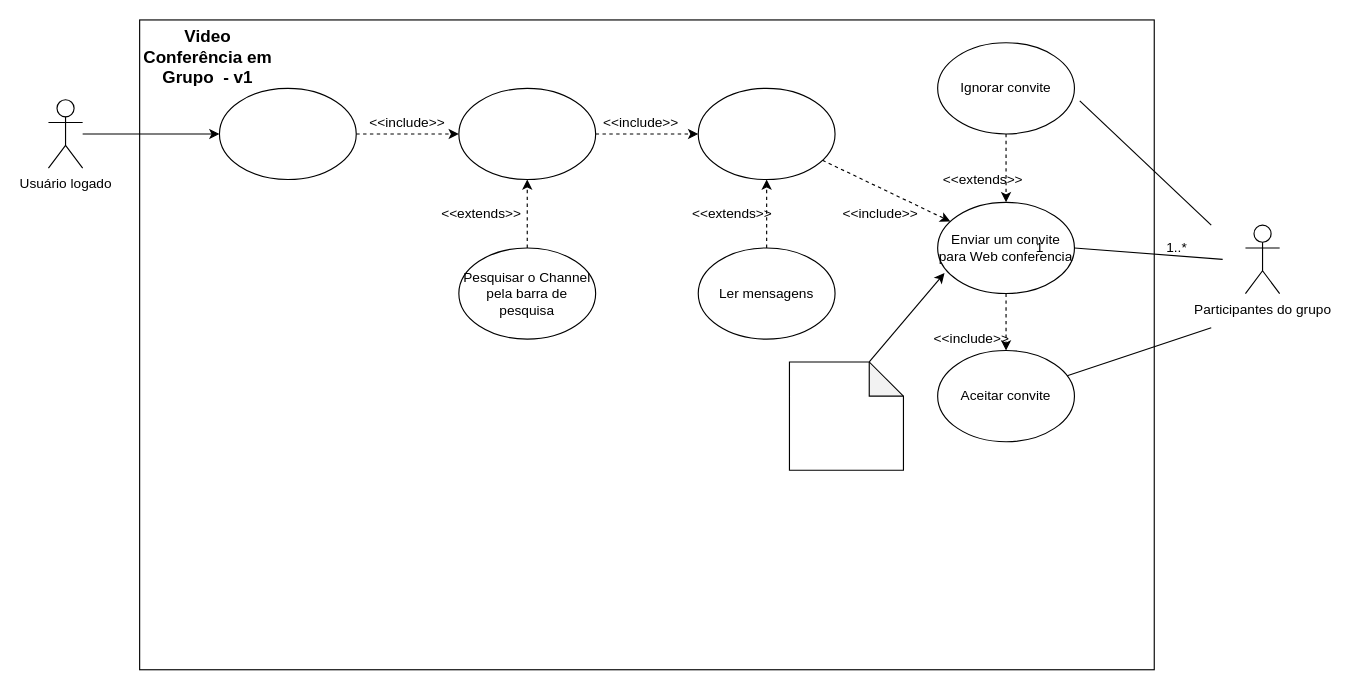
This 1351x690 diagram has some shape labels left out. Each missing label, with the box of its shape:
Acessar página inicial: (218, 87, 356, 180)
Acessar um channel: (697, 87, 835, 180)
Buscar channel: (458, 87, 596, 180)
É enviado um convite por interação: (788, 361, 903, 470)
